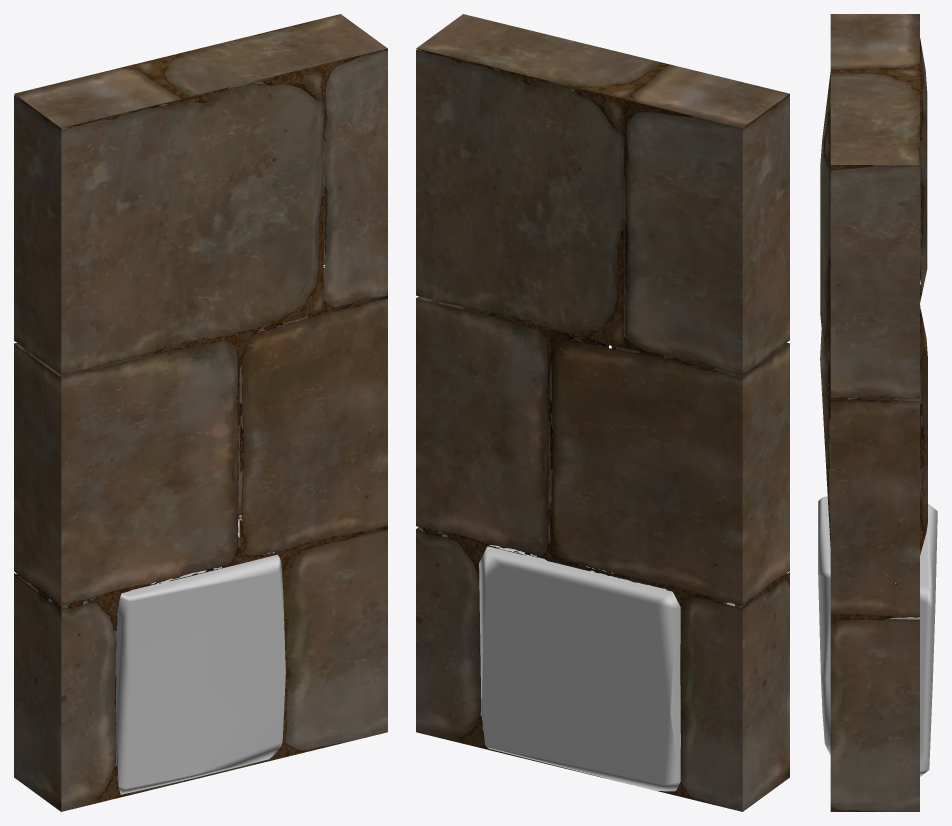
3 renders of one model, left to right at view 1: azimuth 30°, elevation 25°; view 2: azimuth 150°, elevation 25°; view 3: azimuth 270°, elevation 25°, orthographic. The views are drawn at different scales.
Parts seen in each view (by area): view 1: SM_Vault_2x4m_Wall_01_LOD0; view 2: SM_Vault_2x4m_Wall_01_LOD0; view 3: SM_Vault_2x4m_Wall_01_LOD0.
Part boxes in pixels (bbox=[...]): SM_Vault_2x4m_Wall_01_LOD0: bbox=[14, 14, 387, 811]; SM_Vault_2x4m_Wall_01_LOD0: bbox=[416, 14, 789, 811]; SM_Vault_2x4m_Wall_01_LOD0: bbox=[818, 14, 937, 811].
Bounding box in the file's own units: 2 × 4 × 0.6704.
